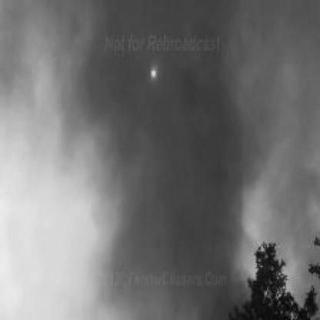Smoke: (7, 2, 280, 306)
